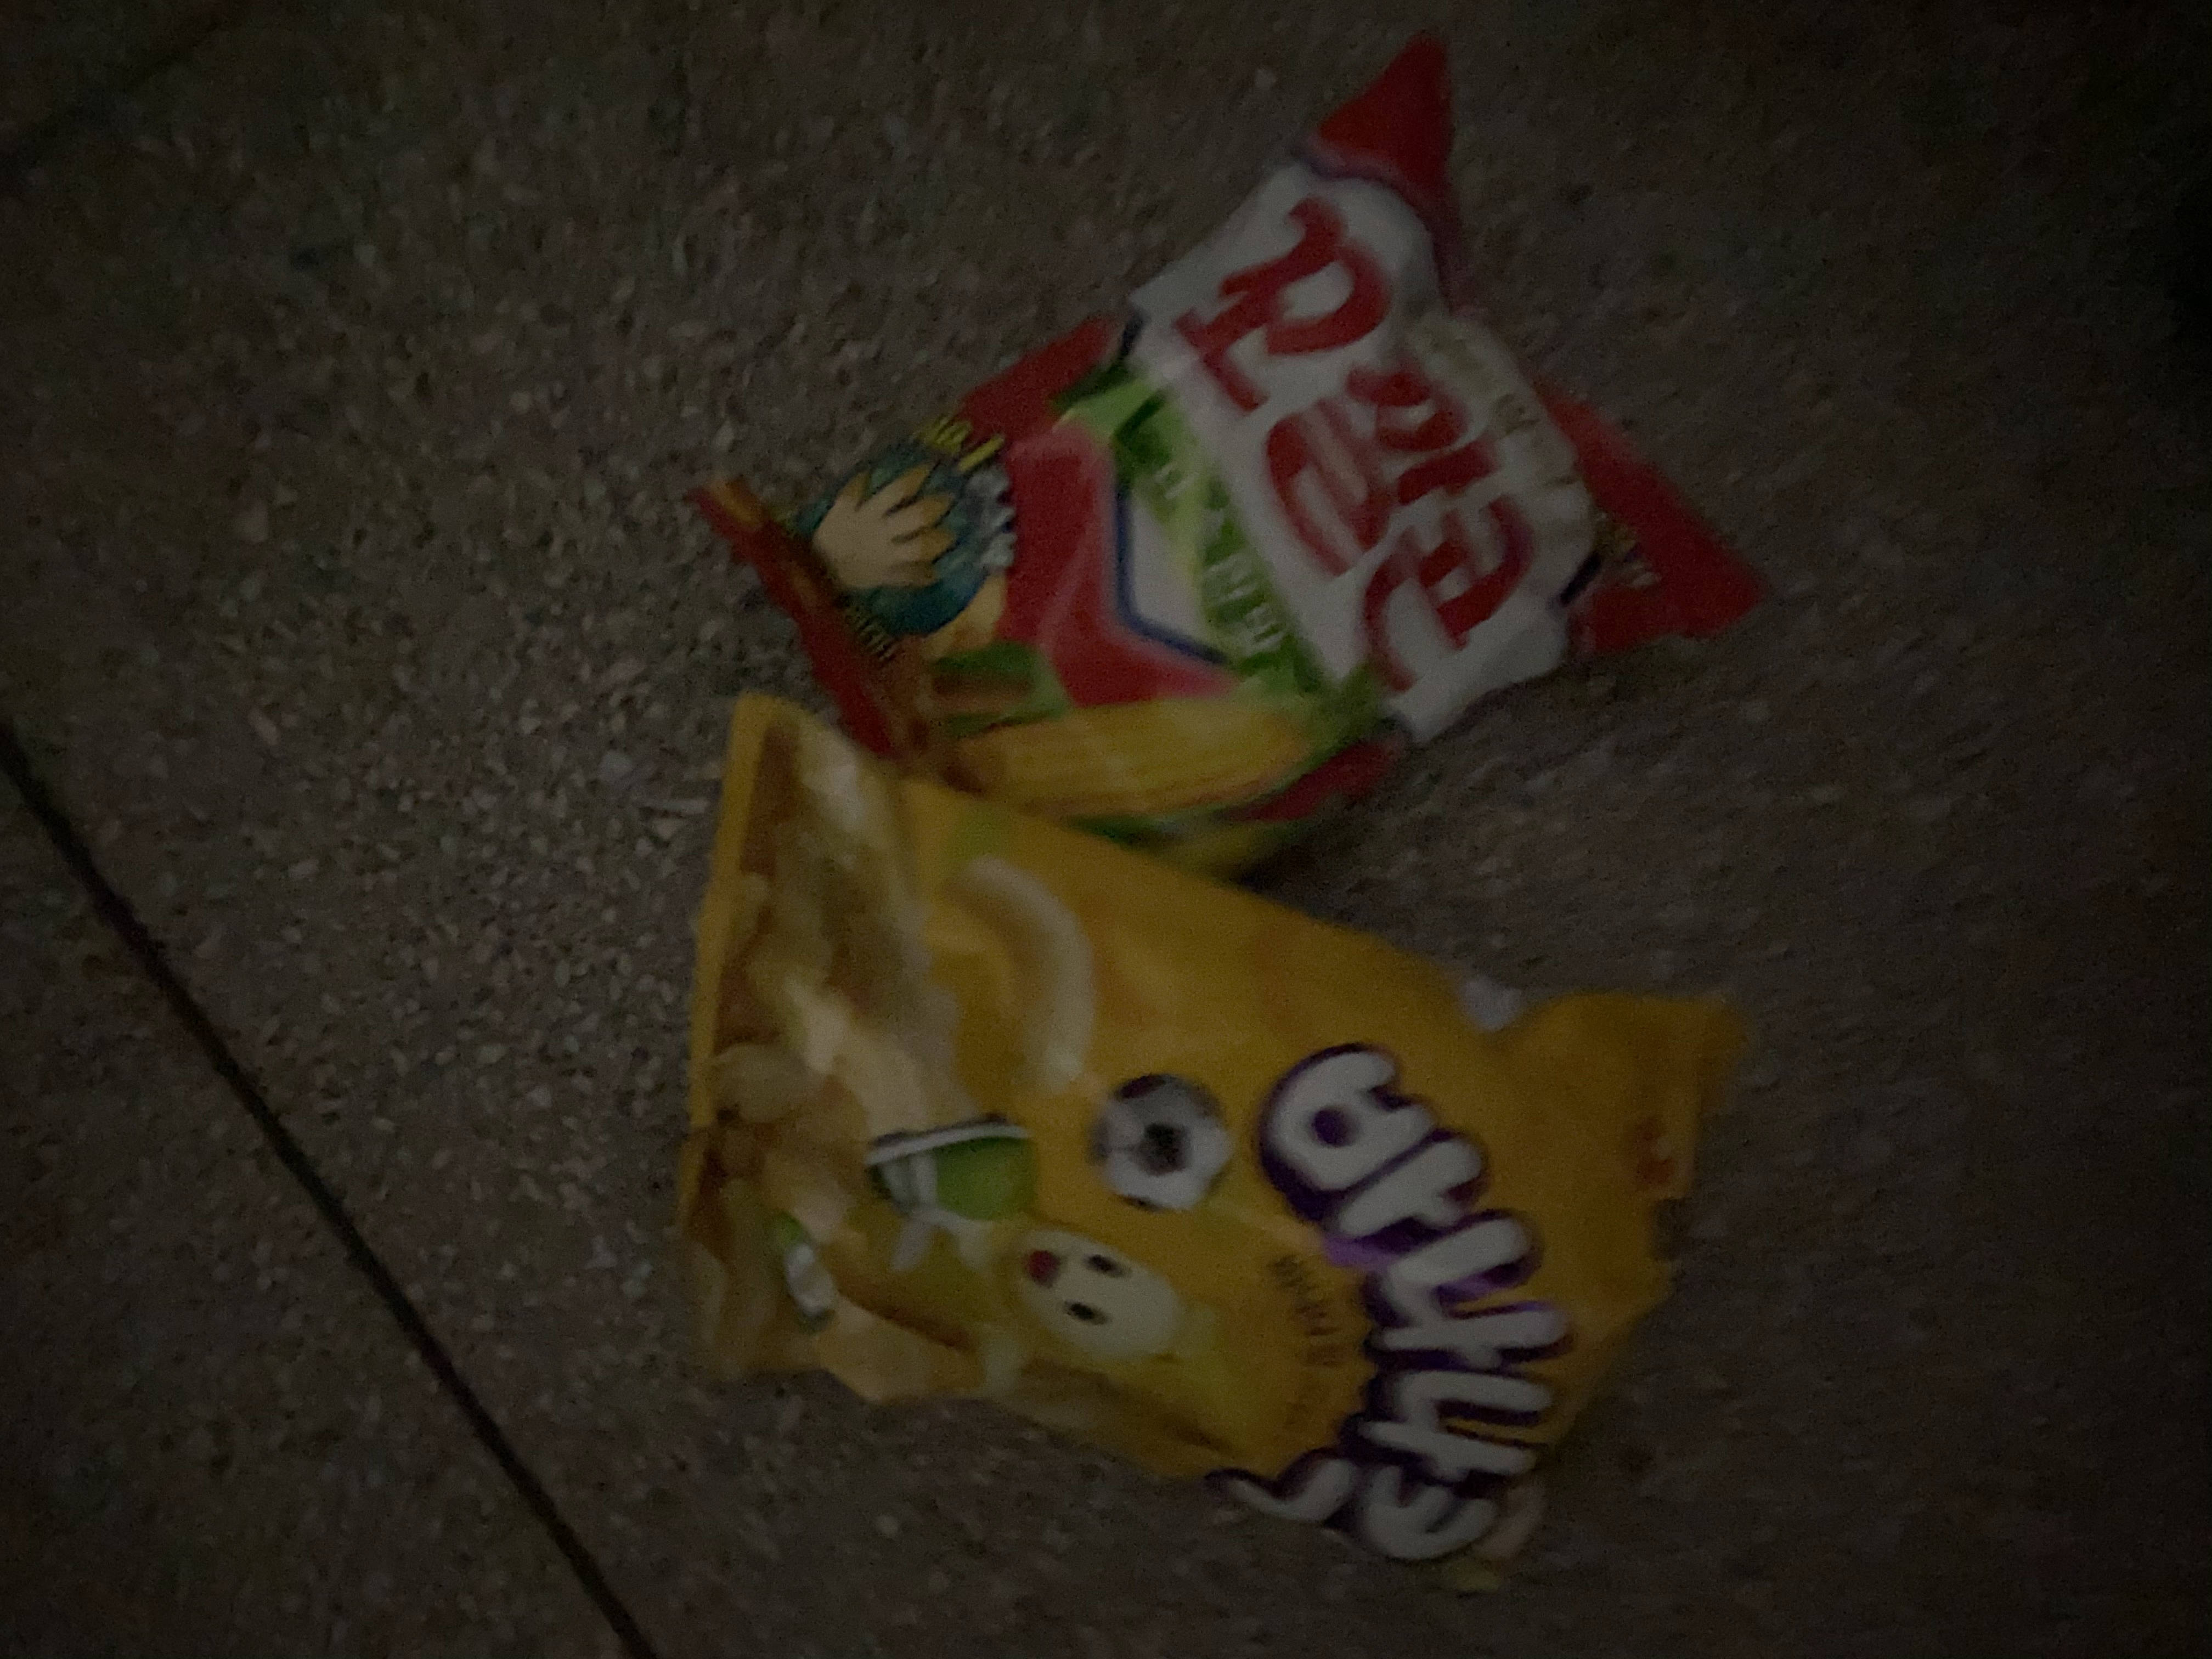banana: (655, 673, 1763, 1614)
ggoggalcon: (662, 17, 1784, 950)
